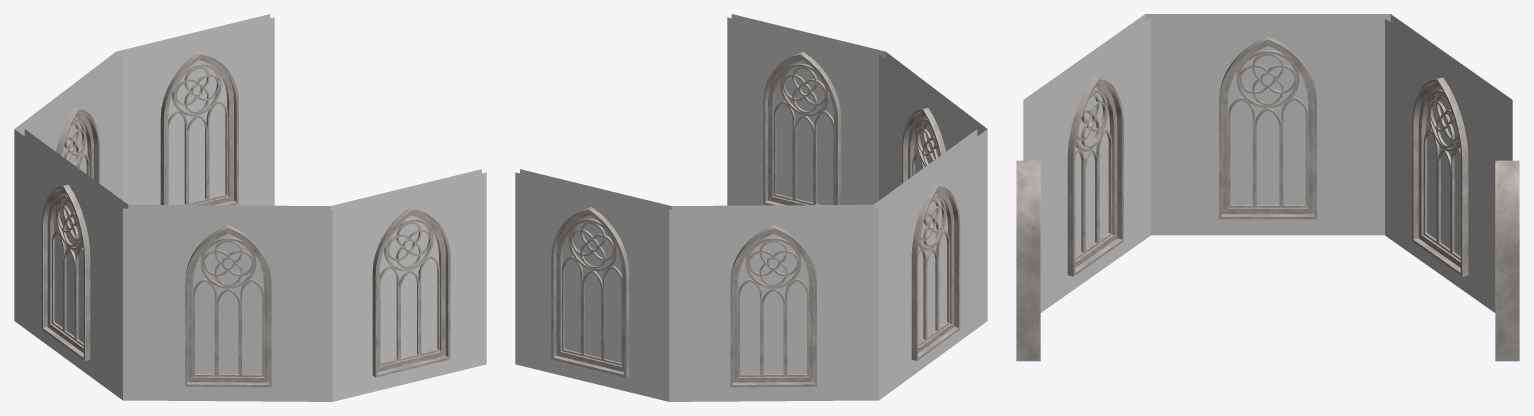
Rendered from Ambulatory_Inner_C_B.fbx.
3 views of the same model, side by side, from view 1: azimuth 30°, elevation 25°; view 2: azimuth 150°, elevation 25°; view 3: azimuth 270°, elevation 25° (orthographic). The views are drawn at different scales.
Parts seen in each view (by area): view 1: Ambulatory_Inner_C_B; view 2: Ambulatory_Inner_C_B; view 3: Ambulatory_Inner_C_B.
Boxes of the visible parts, x1,y1,x2,y2 form: Ambulatory_Inner_C_B: (14,14,486,401); Ambulatory_Inner_C_B: (515,14,987,401); Ambulatory_Inner_C_B: (1016,14,1519,361).
Size of the model in its own units: 10.31 by 12.61 by 6.
